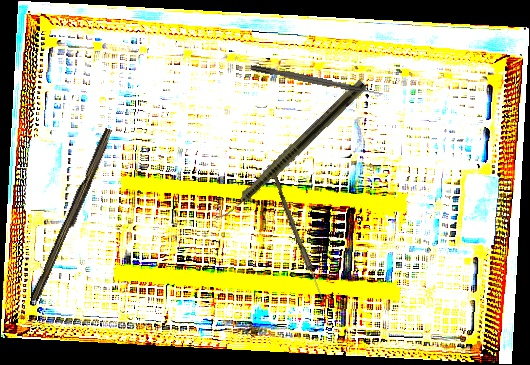Handpiece: (211, 76, 369, 230)
Hook Surgical: (250, 63, 385, 99)
Scalpel Handle: (30, 126, 116, 304)
Surgical Spoon: (269, 172, 328, 305)
